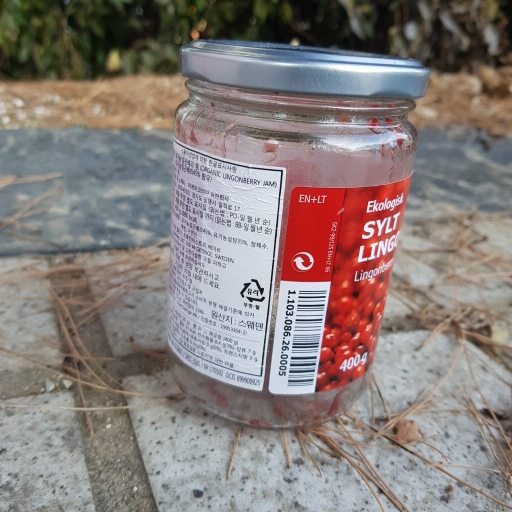Glass_5: (160, 41, 434, 428)
